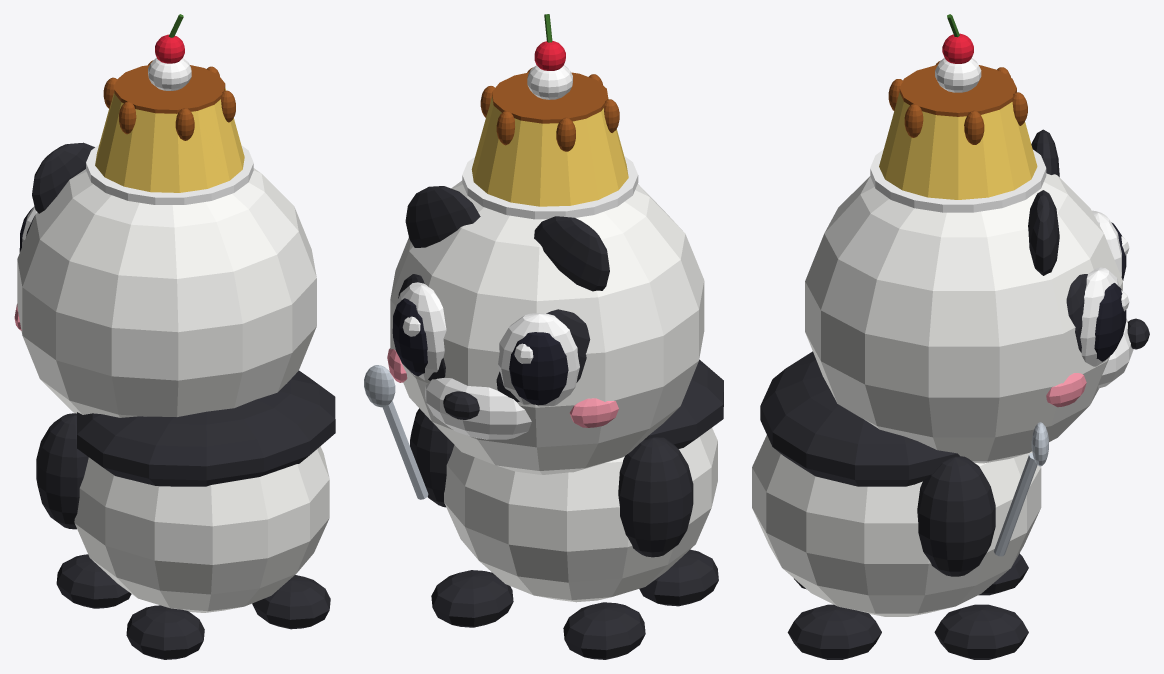
File: PuddingPanda.fbx
3 renders of one model, left to right at view 1: azimuth 30°, elevation 25°; view 2: azimuth 150°, elevation 25°; view 3: azimuth 270°, elevation 25°, orthographic. The views are drawn at different scales.
Visible parts, largest first — view 1: Pet_F8F8F5, Pet_2A2A30, Pet_FFD860, Pet_A0561E, Pet_FFFFFF, Pet_E8203A; view 2: Pet_F8F8F5, Pet_2A2A30, Pet_FFFFFF, Pet_FFD860, Pet_A0561E, Pet_1E1E2A, Pet_C8D0DA_Metal, Pet_FF9AAE, Pet_E8203A; view 3: Pet_F8F8F5, Pet_2A2A30, Pet_FFD860, Pet_FFFFFF, Pet_A0561E, Pet_1E1E2A, Pet_C8D0DA_Metal, Pet_FF9AAE, Pet_E8203A.
Part boxes in pixels (x1=…): Pet_F8F8F5: x1=17, y1=168, x2=329, y2=612; Pet_2A2A30: x1=26, y1=142, x2=335, y2=659; Pet_FFD860: x1=95, y1=88, x2=244, y2=192; Pet_A0561E: x1=103, y1=60, x2=235, y2=140; Pet_FFFFFF: x1=22, y1=58, x2=253, y2=246; Pet_E8203A: x1=155, y1=34, x2=184, y2=63; Pet_F8F8F5: x1=390, y1=180, x2=717, y2=602; Pet_2A2A30: x1=398, y1=186, x2=723, y2=659; Pet_FFFFFF: x1=395, y1=65, x2=638, y2=439; Pet_FFD860: x1=471, y1=96, x2=628, y2=206; Pet_A0561E: x1=480, y1=67, x2=619, y2=151; Pet_1E1E2A: x1=392, y1=298, x2=568, y2=404; Pet_C8D0DA_Metal: x1=364, y1=365, x2=428, y2=499; Pet_FF9AAE: x1=387, y1=348, x2=618, y2=427; Pet_E8203A: x1=534, y1=41, x2=565, y2=70; Pet_F8F8F5: x1=752, y1=173, x2=1122, y2=616; Pet_2A2A30: x1=760, y1=129, x2=1149, y2=659; Pet_FFD860: x1=879, y1=92, x2=1037, y2=199; Pet_FFFFFF: x1=870, y1=58, x2=1133, y2=388; Pet_A0561E: x1=888, y1=60, x2=1027, y2=144; Pet_1E1E2A: x1=1094, y1=222, x2=1126, y2=361; Pet_C8D0DA_Metal: x1=994, y1=422, x2=1048, y2=556; Pet_FF9AAE: x1=1046, y1=373, x2=1086, y2=407; Pet_E8203A: x1=942, y1=33, x2=973, y2=63.
Bounding box in the file's own units: 1.1 × 2.3 × 1.36.
